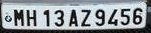character: (12, 9, 24, 27), (25, 9, 37, 27), (53, 9, 65, 27), (107, 8, 119, 26), (80, 9, 91, 27), (94, 8, 105, 26), (132, 7, 143, 25), (68, 9, 78, 28), (119, 8, 130, 25), (42, 9, 51, 27)
